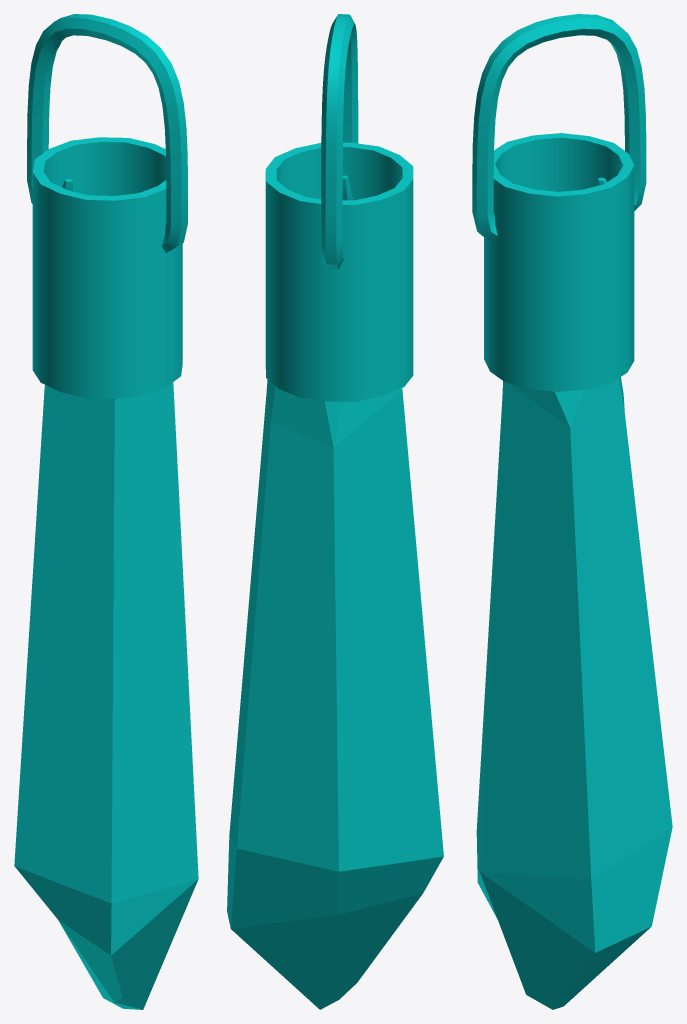
Rendered from dfk_crystal_04.fbx.
3 views of the same model, side by side, from view 1: azimuth 30°, elevation 25°; view 2: azimuth 150°, elevation 25°; view 3: azimuth 270°, elevation 25° (orthographic).
Visible parts, largest first — view 1: Crystal04; view 2: Crystal04; view 3: Crystal04.
Boxes of the visible parts, left/top/right/bottom form: Crystal04: left=14, top=14, right=198, bottom=1009; Crystal04: left=227, top=14, right=443, bottom=1009; Crystal04: left=472, top=14, right=672, bottom=1009.
Size of the model in its own units: 0.0586 by 0.2861 by 0.0531.
